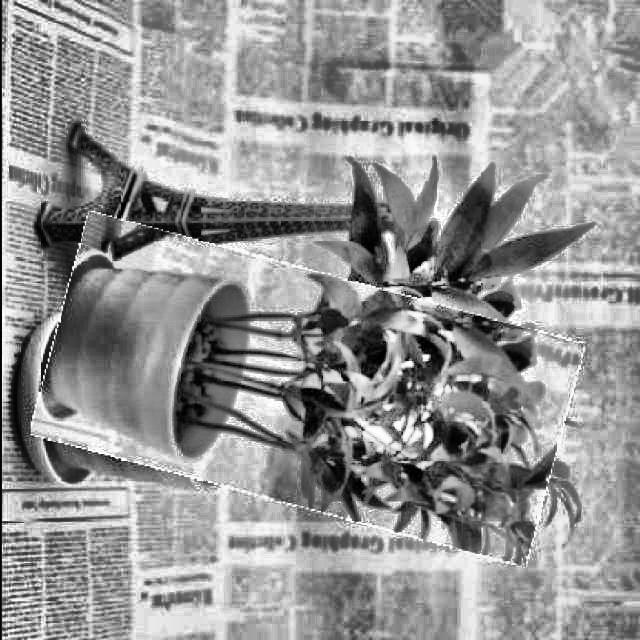plants: (36, 242, 572, 535)
